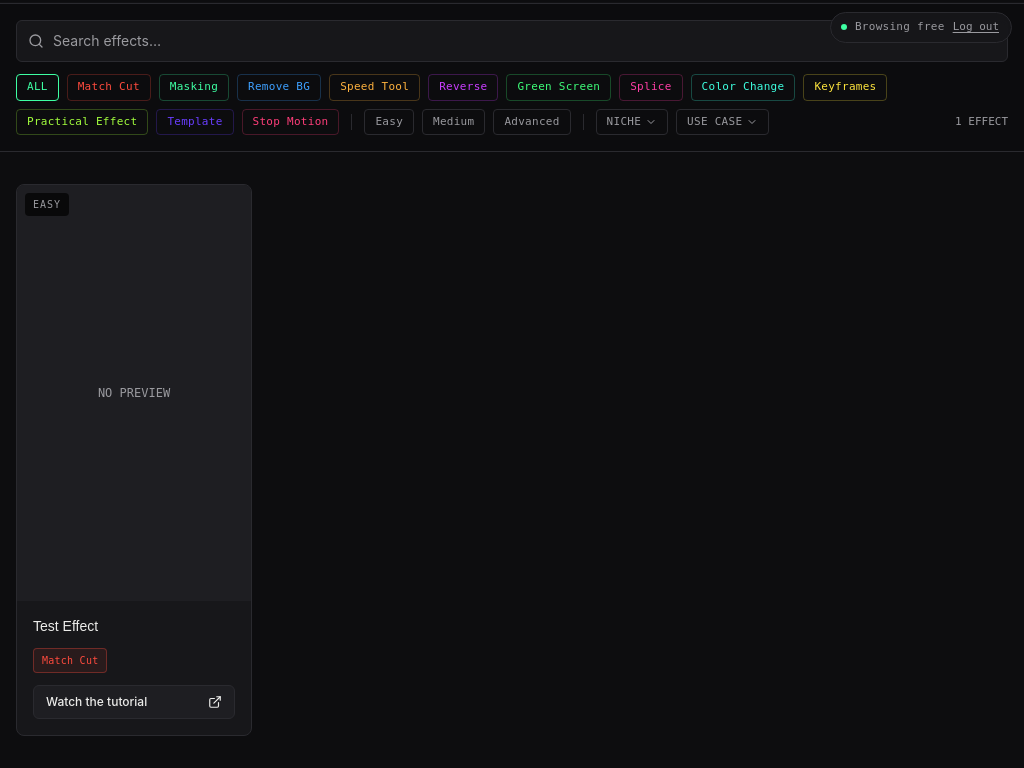
Test case: click-gated login (real App + EffectCard, simulated click) › full flow: gated click -> submit authorized email -> opens the originally-clicked link -> modal closes
The image size is (1024, 768).
(page scrolled)
Click the link "Watch the tutorial". click: (134, 702)
box: [33,685,235,719]
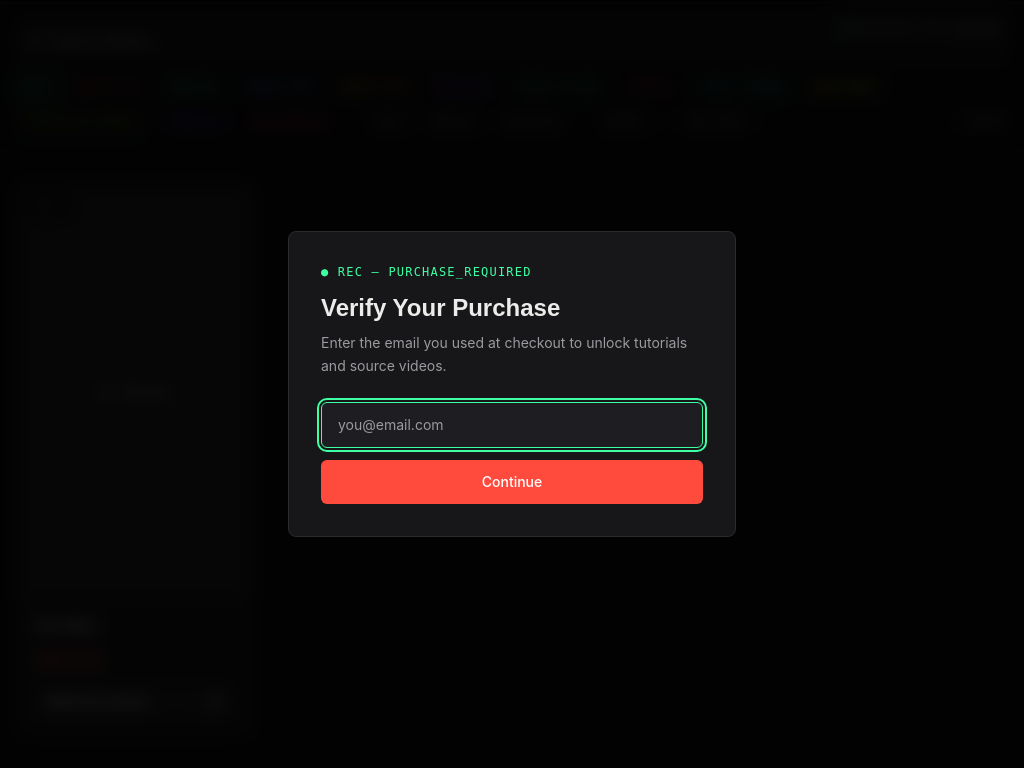
Type "buyer@example.com" into the field with placeholder "you@email.com". click: (512, 425)
box: [321,402,703,448]
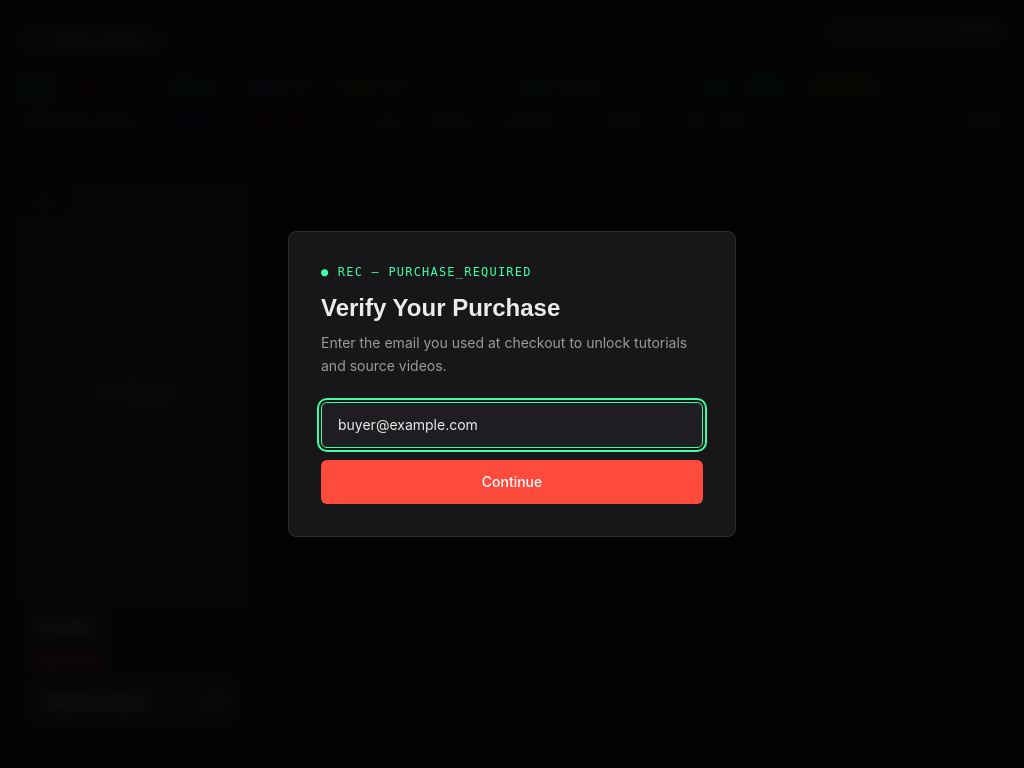
Click the button "Continue". click: (512, 482)
box: [321,460,703,504]
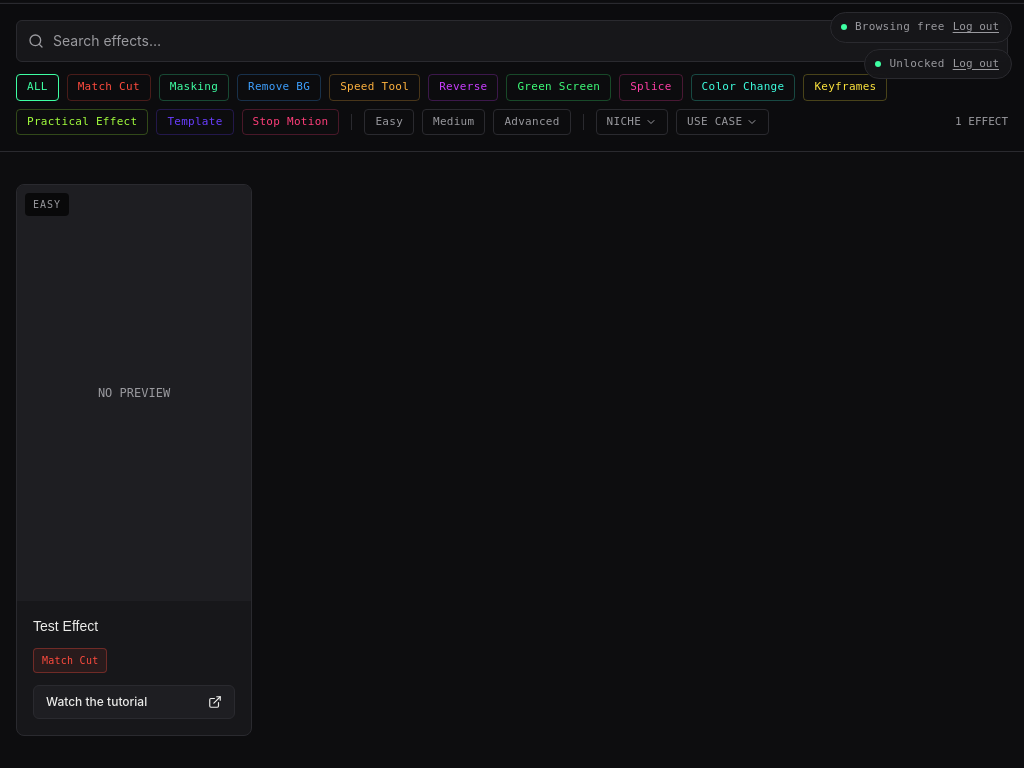
Result: the heading "Verify Your Purchase" is gone
